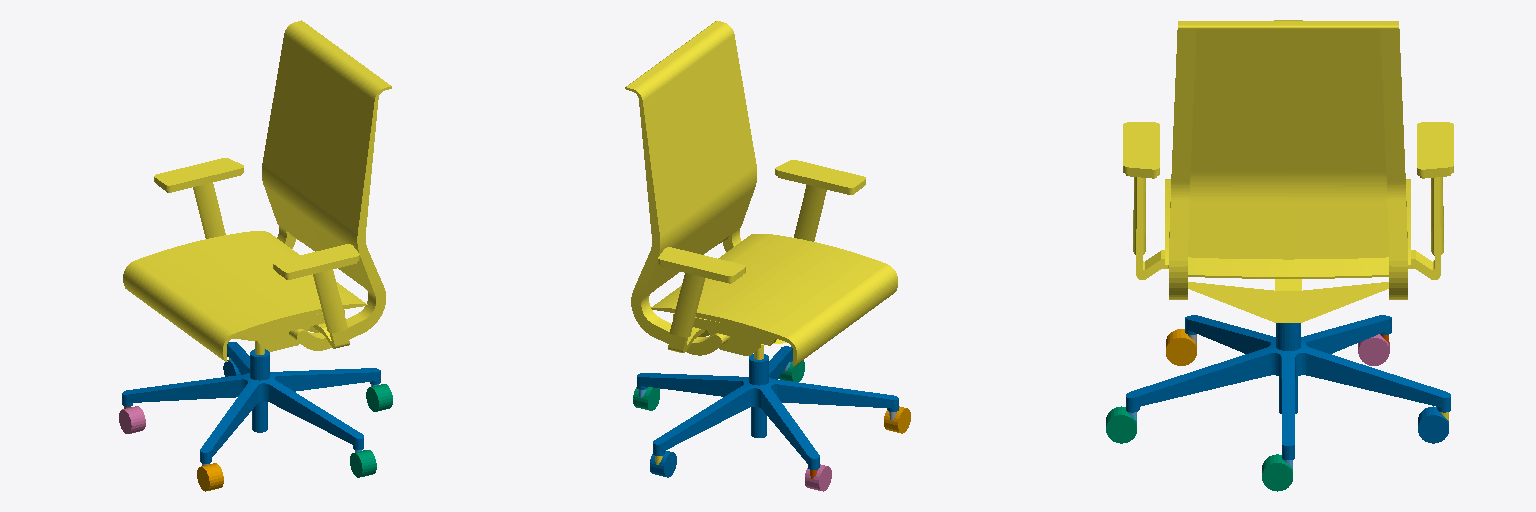
URDF robot description (partnet_bed17aaa6ce899bed810b14a81e12eca):
<?xml version="1.0" encoding="utf-8"?>
<robot name="partnet_bed17aaa6ce899bed810b14a81e12eca">
 <link name="base"/>
 <link name="link_0">
  <visual name="caster_stem-82">
   <origin xyz="-0.0005261436248168051 0 0.48171014362481684"/>
   <geometry>
    <mesh filename="textured_objs/original-13.obj"/>
   </geometry>
  </visual>
  <collision>
   <geometry>
    <mesh filename="cvx_objs/link_0.obj"/>
   </geometry>
  </collision>
 </link>
 <joint name="joint_0" type="continuous">
  <origin xyz="0.0005261436248168051 0 -0.48171014362481684"/>
  <axis xyz="0 1 0"/>
  <child link="link_0"/>
  <parent link="link_11"/>
 </joint>
 <link name="link_1">
  <visual name="wheel-83">
   <origin xyz="-0.035658 0.6419957514838371 0"/>
   <geometry>
    <mesh filename="textured_objs/original-12.obj"/>
   </geometry>
  </visual>
  <collision>
   <geometry>
    <mesh filename="cvx_objs/link_1.obj"/>
   </geometry>
  </collision>
 </link>
 <joint name="joint_1" type="continuous">
  <origin xyz="0.0351318563751832 -0.6419957514838371 0.48171014362481684"/>
  <axis xyz="0 0 -1"/>
  <child link="link_1"/>
  <parent link="link_0"/>
 </joint>
 <link name="link_2">
  <visual name="caster_stem-80">
   <origin xyz="0.5026470000000001 0 0.11613374616878913"/>
   <geometry>
    <mesh filename="textured_objs/original-16.obj"/>
   </geometry>
  </visual>
  <collision>
   <geometry>
    <mesh filename="cvx_objs/link_2.obj"/>
   </geometry>
  </collision>
 </link>
 <joint name="joint_2" type="continuous">
  <origin xyz="-0.5026470000000001 0 -0.11613374616878913"/>
  <axis xyz="0 1 0"/>
  <child link="link_2"/>
  <parent link="link_11"/>
 </joint>
 <link name="link_3">
  <visual name="wheel-81">
   <origin xyz="0.46751510947321867 0.6419957658962355 0"/>
   <geometry>
    <mesh filename="textured_objs/original-15.obj"/>
   </geometry>
  </visual>
  <collision>
   <geometry>
    <mesh filename="cvx_objs/link_3.obj"/>
   </geometry>
  </collision>
 </link>
 <joint name="joint_3" type="continuous">
  <origin xyz="0.035131890526781395 -0.6419957658962355 0.11613374616878913"/>
  <axis xyz="0 0 1"/>
  <child link="link_3"/>
  <parent link="link_2"/>
 </joint>
 <link name="link_4">
  <visual name="caster_stem-78">
   <origin xyz="0.310452 0 -0.4753818752828054"/>
   <geometry>
    <mesh filename="textured_objs/original-10.obj"/>
   </geometry>
  </visual>
  <collision>
   <geometry>
    <mesh filename="cvx_objs/link_4.obj"/>
   </geometry>
  </collision>
 </link>
 <joint name="joint_4" type="continuous">
  <origin xyz="-0.310452 0 0.4753818752828054"/>
  <axis xyz="0 1 0"/>
  <child link="link_4"/>
  <parent link="link_11"/>
 </joint>
 <link name="link_5">
  <visual name="wheel-79">
   <origin xyz="0.2753201094732187 0.6419957658962355 0"/>
   <geometry>
    <mesh filename="textured_objs/original-9.obj"/>
   </geometry>
  </visual>
  <collision>
   <geometry>
    <mesh filename="cvx_objs/link_5.obj"/>
   </geometry>
  </collision>
 </link>
 <joint name="joint_5" type="continuous">
  <origin xyz="0.035131890526781284 -0.6419957658962355 -0.4753818752828054"/>
  <axis xyz="0 0 -1"/>
  <child link="link_5"/>
  <parent link="link_4"/>
 </joint>
 <link name="link_6">
  <visual name="caster_stem-76">
   <origin xyz="-0.3115042580529089 0 -0.47538174194709115"/>
   <geometry>
    <mesh filename="textured_objs/original-7.obj"/>
   </geometry>
  </visual>
  <collision>
   <geometry>
    <mesh filename="cvx_objs/link_6.obj"/>
   </geometry>
  </collision>
 </link>
 <joint name="joint_6" type="continuous">
  <origin xyz="0.3115042580529089 0 0.47538174194709115"/>
  <axis xyz="0 1 0"/>
  <child link="link_6"/>
  <parent link="link_11"/>
 </joint>
 <link name="link_7">
  <visual name="wheel-77">
   <origin xyz="-0.3466361094732187 0.6419957658962355 0"/>
   <geometry>
    <mesh filename="textured_objs/original-6.obj"/>
   </geometry>
  </visual>
  <collision>
   <geometry>
    <mesh filename="cvx_objs/link_7.obj"/>
   </geometry>
  </collision>
 </link>
 <joint name="joint_7" type="continuous">
  <origin xyz="0.035131851420309834 -0.6419957658962355 -0.47538174194709115"/>
  <axis xyz="0 0 -1"/>
  <child link="link_7"/>
  <parent link="link_6"/>
 </joint>
 <link name="link_8">
  <visual name="caster_stem-74">
   <origin xyz="-0.5036992243423192 0 0.11613366056459225"/>
   <geometry>
    <mesh filename="textured_objs/original-4.obj"/>
   </geometry>
  </visual>
  <collision>
   <geometry>
    <mesh filename="cvx_objs/link_8.obj"/>
   </geometry>
  </collision>
 </link>
 <joint name="joint_8" type="continuous">
  <origin xyz="0.5036992243423192 0 -0.11613366056459225"/>
  <axis xyz="0 1 0"/>
  <child link="link_8"/>
  <parent link="link_11"/>
 </joint>
 <link name="link_9">
  <visual name="wheel-75">
   <origin xyz="-0.5388311094732187 0.6419957658962355 0"/>
   <geometry>
    <mesh filename="textured_objs/original-3.obj"/>
   </geometry>
  </visual>
  <collision>
   <geometry>
    <mesh filename="cvx_objs/link_9.obj"/>
   </geometry>
  </collision>
 </link>
 <joint name="joint_9" type="continuous">
  <origin xyz="0.03513188513089949 -0.6419957658962355 0.11613366056459225"/>
  <axis xyz="0 0 -1"/>
  <child link="link_9"/>
  <parent link="link_8"/>
 </joint>
 <link name="link_10">
  <visual name="back_soft_surface-59">
   <origin xyz="-0.0005253062923504213 0 -0.04735656250737649"/>
   <geometry>
    <mesh filename="textured_objs/original-35.obj"/>
   </geometry>
  </visual>
  <visual name="back_frame_vertical_bar-55">
   <origin xyz="-0.0005253062923504213 0 -0.04735656250737649"/>
   <geometry>
    <mesh filename="textured_objs/new-9.obj"/>
   </geometry>
  </visual>
  <visual name="back_frame_vertical_bar-56">
   <origin xyz="-0.0005253062923504213 0 -0.04735656250737649"/>
   <geometry>
    <mesh filename="textured_objs/new-11.obj"/>
   </geometry>
  </visual>
  <visual name="back_frame_horizontal_bar-57">
   <origin xyz="-0.0005253062923504213 0 -0.04735656250737649"/>
   <geometry>
    <mesh filename="textured_objs/new-10.obj"/>
   </geometry>
  </visual>
  <visual name="back_frame_horizontal_bar-58">
   <origin xyz="-0.0005253062923504213 0 -0.04735656250737649"/>
   <geometry>
    <mesh filename="textured_objs/new-8.obj"/>
   </geometry>
  </visual>
  <visual name="back_connector-51">
   <origin xyz="-0.0005253062923504213 0 -0.04735656250737649"/>
   <geometry>
    <mesh filename="textured_objs/new-6.obj"/>
   </geometry>
  </visual>
  <visual name="back_connector-52">
   <origin xyz="-0.0005253062923504213 0 -0.04735656250737649"/>
   <geometry>
    <mesh filename="textured_objs/new-7.obj"/>
   </geometry>
  </visual>
  <visual name="armrest_soft_surface-43">
   <origin xyz="-0.0005253062923504213 0 -0.04735656250737649"/>
   <geometry>
    <mesh filename="textured_objs/original-24.obj"/>
   </geometry>
  </visual>
  <visual name="arm_vertical_bar-44">
   <origin xyz="-0.0005253062923504213 0 -0.04735656250737649"/>
   <geometry>
    <mesh filename="textured_objs/original-23.obj"/>
   </geometry>
  </visual>
  <visual name="arm_connector-45">
   <origin xyz="-0.0005253062923504213 0 -0.04735656250737649"/>
   <geometry>
    <mesh filename="textured_objs/original-21.obj"/>
   </geometry>
  </visual>
  <visual name="armrest_soft_surface-40">
   <origin xyz="-0.0005253062923504213 0 -0.04735656250737649"/>
   <geometry>
    <mesh filename="textured_objs/original-32.obj"/>
   </geometry>
  </visual>
  <visual name="arm_vertical_bar-41">
   <origin xyz="-0.0005253062923504213 0 -0.04735656250737649"/>
   <geometry>
    <mesh filename="textured_objs/original-31.obj"/>
   </geometry>
  </visual>
  <visual name="arm_connector-42">
   <origin xyz="-0.0005253062923504213 0 -0.04735656250737649"/>
   <geometry>
    <mesh filename="textured_objs/original-29.obj"/>
   </geometry>
  </visual>
  <visual name="seat_soft_surface-89">
   <origin xyz="-0.0005253062923504213 0 -0.04735656250737649"/>
   <geometry>
    <mesh filename="textured_objs/original-19.obj"/>
   </geometry>
  </visual>
  <visual name="seat_support-85">
   <origin xyz="-0.0005253062923504213 0 -0.04735656250737649"/>
   <geometry>
    <mesh filename="textured_objs/original-18.obj"/>
   </geometry>
  </visual>
  <visual name="seat_support-85">
   <origin xyz="-0.0005253062923504213 0 -0.04735656250737649"/>
   <geometry>
    <mesh filename="textured_objs/original-37.obj"/>
   </geometry>
  </visual>
  <visual name="seat_support-85">
   <origin xyz="-0.0005253062923504213 0 -0.04735656250737649"/>
   <geometry>
    <mesh filename="textured_objs/original-26.obj"/>
   </geometry>
  </visual>
  <visual name="seat_frame_vertical_bar-87">
   <origin xyz="-0.0005253062923504213 0 -0.04735656250737649"/>
   <geometry>
    <mesh filename="textured_objs/original-27.obj"/>
   </geometry>
  </visual>
  <visual name="seat_frame_vertical_bar-88">
   <origin xyz="-0.0005253062923504213 0 -0.04735656250737649"/>
   <geometry>
    <mesh filename="textured_objs/original-38.obj"/>
   </geometry>
  </visual>
  <visual name="central_support-60">
   <origin xyz="-0.0005253062923504213 0 -0.04735656250737649"/>
   <geometry>
    <mesh filename="textured_objs/new-12.obj"/>
   </geometry>
  </visual>
  <collision>
   <geometry>
    <mesh filename="cvx_objs/link_10.obj"/>
   </geometry>
  </collision>
 </link>
 <joint name="joint_10" type="continuous">
  <origin xyz="0.0 0 0.0"/>
  <axis xyz="0 1 0"/>
  <child link="link_10"/>
  <parent link="link_10_helper"/>
 </joint>
 <link name="link_11">
  <visual name="central_support-61">
   <origin xyz="0 0 0"/>
   <geometry>
    <mesh filename="textured_objs/new-14.obj"/>
   </geometry>
  </visual>
  <visual name="central_support-62">
   <origin xyz="0 0 0"/>
   <geometry>
    <mesh filename="textured_objs/new-13.obj"/>
   </geometry>
  </visual>
  <visual name="leg-64">
   <origin xyz="0 0 0"/>
   <geometry>
    <mesh filename="textured_objs/new-0.obj"/>
   </geometry>
  </visual>
  <visual name="leg-65">
   <origin xyz="0 0 0"/>
   <geometry>
    <mesh filename="textured_objs/new-1.obj"/>
   </geometry>
  </visual>
  <visual name="leg-66">
   <origin xyz="0 0 0"/>
   <geometry>
    <mesh filename="textured_objs/new-2.obj"/>
   </geometry>
  </visual>
  <visual name="leg-67">
   <origin xyz="0 0 0"/>
   <geometry>
    <mesh filename="textured_objs/new-3.obj"/>
   </geometry>
  </visual>
  <visual name="leg-68">
   <origin xyz="0 0 0"/>
   <geometry>
    <mesh filename="textured_objs/new-4.obj"/>
   </geometry>
  </visual>
  <collision>
   <geometry>
    <mesh filename="cvx_objs/link_11.obj"/>
   </geometry>
  </collision>
 </link>
 <joint name="joint_11" type="fixed">
  <origin rpy="1.570796326794897 0 -1.570796326794897" xyz="0 0 0"/>
  <child link="link_11"/>
  <parent link="base"/>
 </joint>
 <link name="link_10_helper"/>
 <joint name="joint_12" type="prismatic">
  <origin xyz="0.0005253062923504213 0 0.04735656250737649"/>
  <axis xyz="0 -1 0"/>
  <child link="link_10_helper"/>
  <parent link="link_11"/>
  <limit lower="0" upper="0.07600000000000007"/>
 </joint>
</robot>

--- What the picture shows (computed from the rendered views, not written in the file) ---
Views: 3 orthographic renders of the robot side by side, from view 1: azimuth 30°, elevation 25°; view 2: azimuth 150°, elevation 25°; view 3: azimuth 270°, elevation 25°.
Model partnet_bed17aaa6ce899bed810b14a81e12eca with 14 links and 13 joints (11 continuous, 1 prismatic, 1 fixed), rooted at base, posed all joints at 0.
Visible links, largest first — view 1: link_10, link_11, link_7, link_5, link_9, link_1; view 2: link_10, link_11; view 3: link_10, link_11, link_7, link_9, link_1, link_3, link_5.
Link boxes in pixels (left/top/right/bottom): link_10: left=123, top=20, right=391, bottom=361; link_11: left=122, top=342, right=380, bottom=463; link_7: left=197, top=463, right=223, bottom=491; link_5: left=119, top=406, right=145, bottom=433; link_9: left=350, top=450, right=376, bottom=477; link_1: left=366, top=384, right=392, bottom=411; link_10: left=625, top=21, right=897, bottom=366; link_11: left=637, top=346, right=898, bottom=469; link_10: left=1123, top=20, right=1453, bottom=322; link_11: left=1126, top=315, right=1450, bottom=459; link_7: left=1166, top=329, right=1196, bottom=365; link_9: left=1106, top=406, right=1136, bottom=443; link_1: left=1262, top=454, right=1292, bottom=491; link_3: left=1418, top=406, right=1448, bottom=443; link_5: left=1358, top=334, right=1389, bottom=365.
Bounding box of the posed robot: 1.02 × 1.12 × 1.58 m (x, y, z).
Meshes: 37 distinct files referenced, 37 mesh visuals loaded (37 OBJ).
